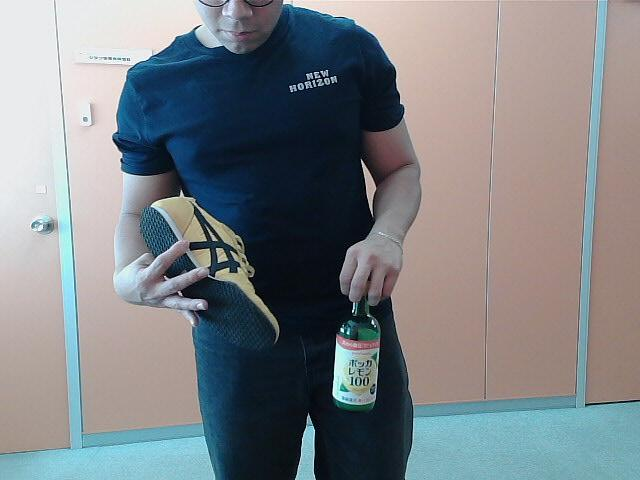Lemon_sapporo: (333, 267, 386, 415)
Shoes: (139, 192, 292, 344)
